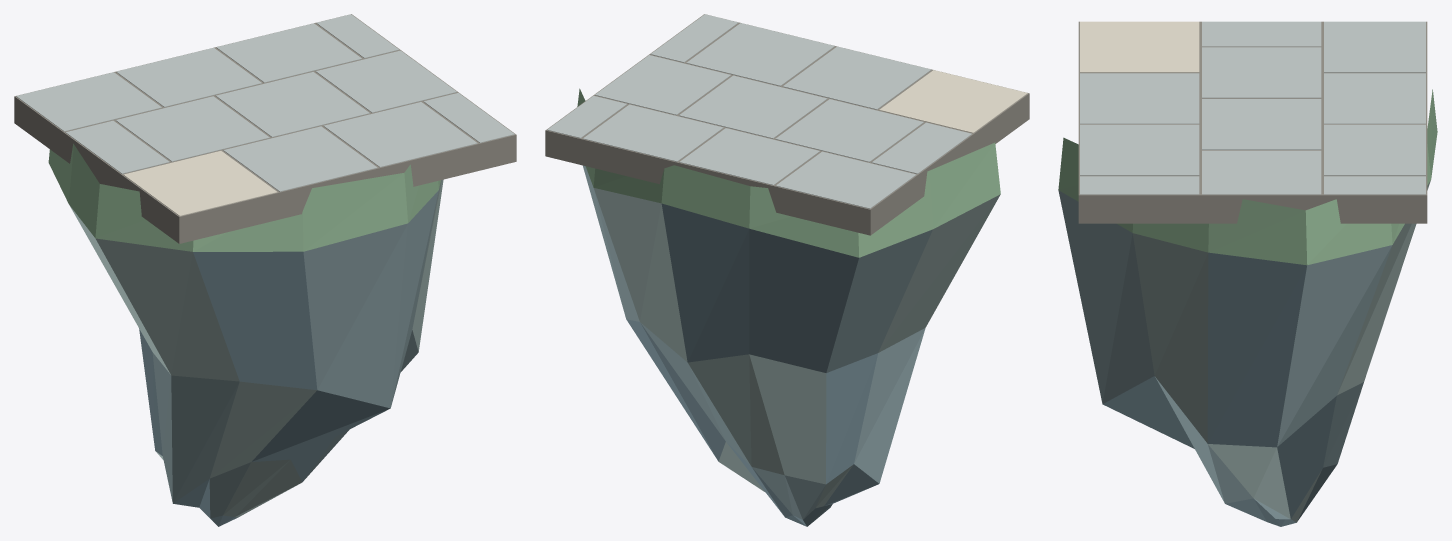
The model's file is FloatingIsland27.glb.
3 renders of one model, left to right at view 1: azimuth 30°, elevation 25°; view 2: azimuth 150°, elevation 25°; view 3: azimuth 270°, elevation 25°, orthographic. The views are drawn at different scales.
Parts seen in each view (by area): view 1: FloatingIsland27; view 2: FloatingIsland27; view 3: FloatingIsland27.
Part boxes in pixels (x1,y1,x2,y2): FloatingIsland27: (14,14,516,526); FloatingIsland27: (545,14,1029,526); FloatingIsland27: (1058,21,1437,526).
Bounding box in the file's own units: 4.11 × 4.15 × 3.26.
